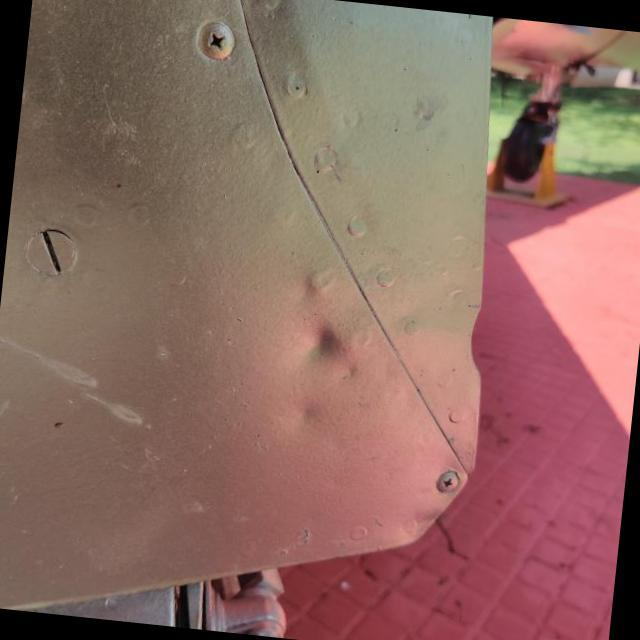Dent: (256, 290, 376, 398)
